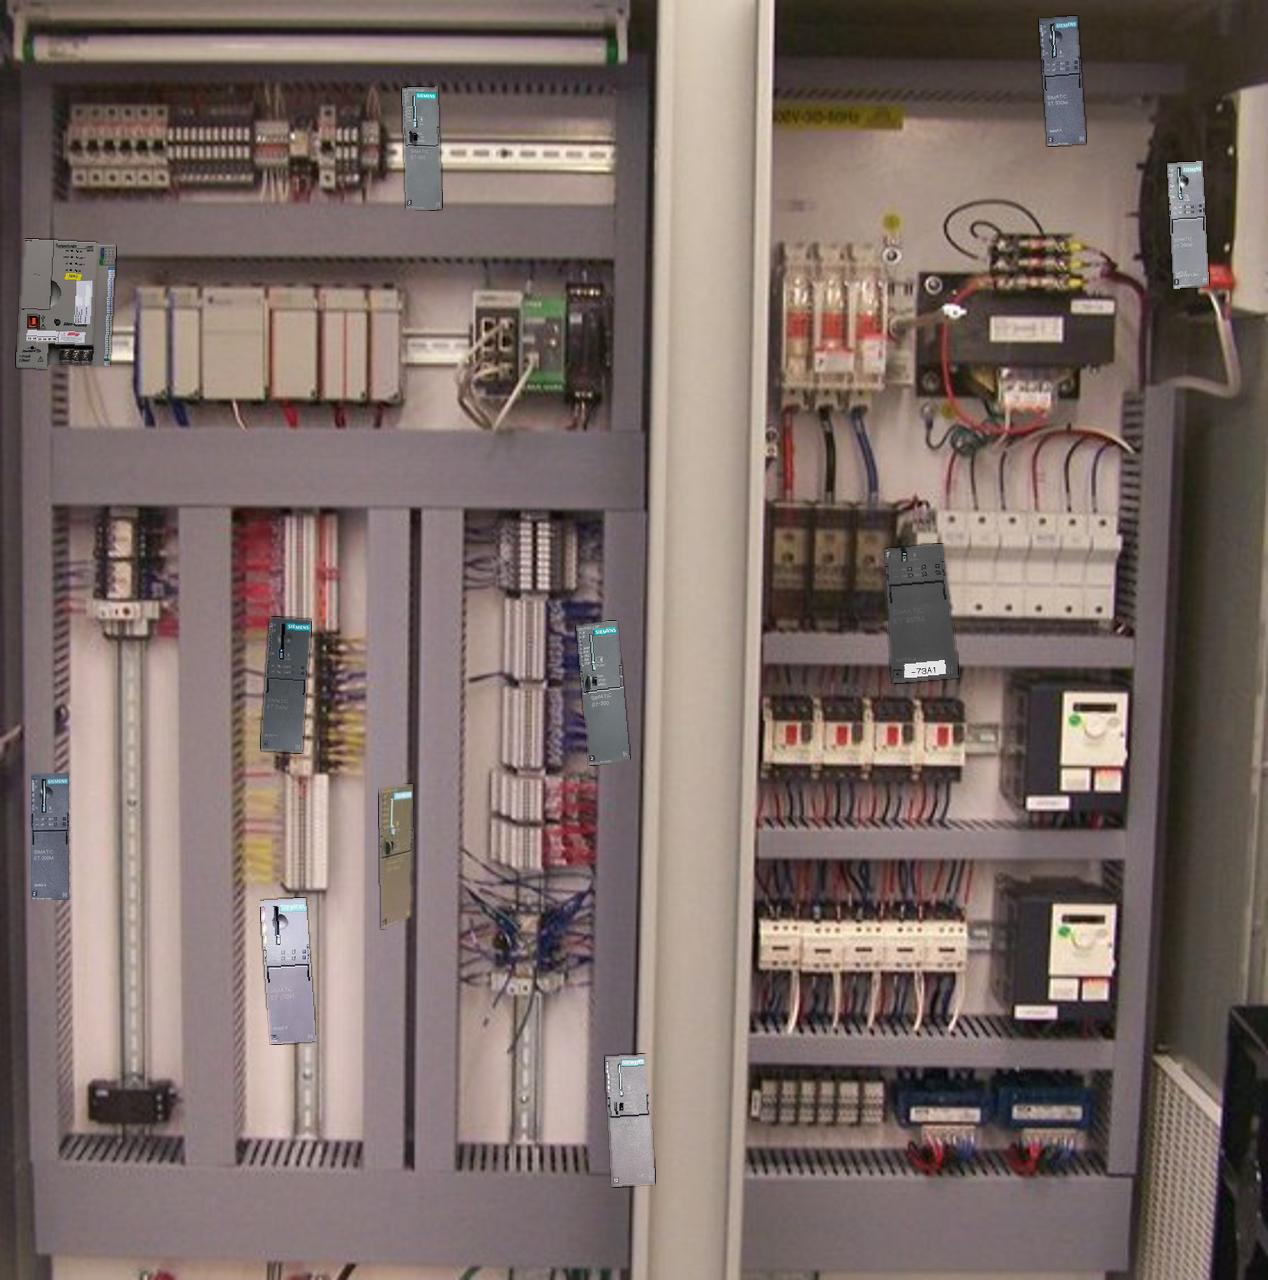AllenBradley: (16, 239, 115, 368)
Siemens: (576, 621, 629, 764), (605, 1054, 654, 1186), (379, 784, 412, 928), (402, 87, 441, 209)
